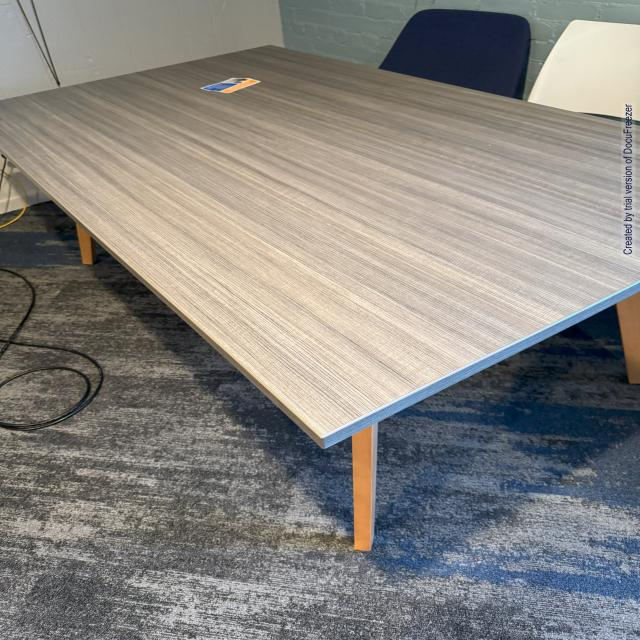Table: (0, 41, 640, 548)
